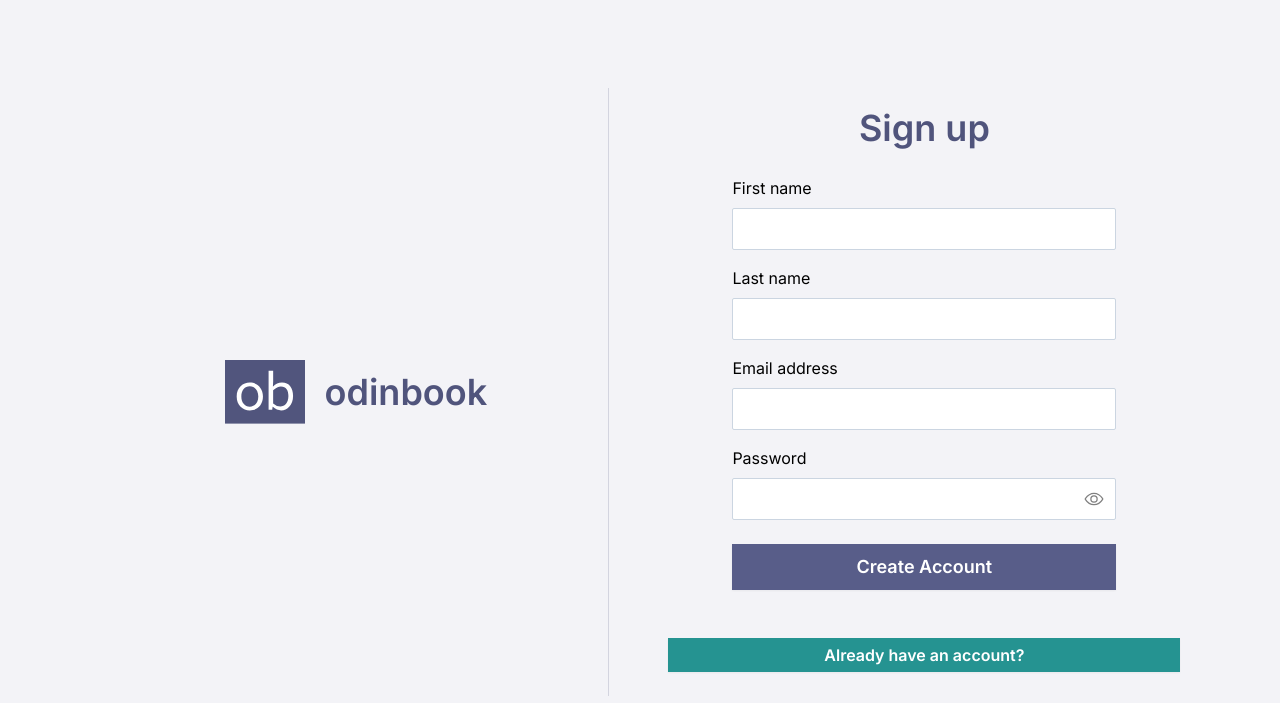
Test: Password confirmation input › shows confirmPassword input when user begins typing in password input
Type "test" into the password field labelled "Password".
click(924, 499); type("test")  # box [732,478,1116,520]
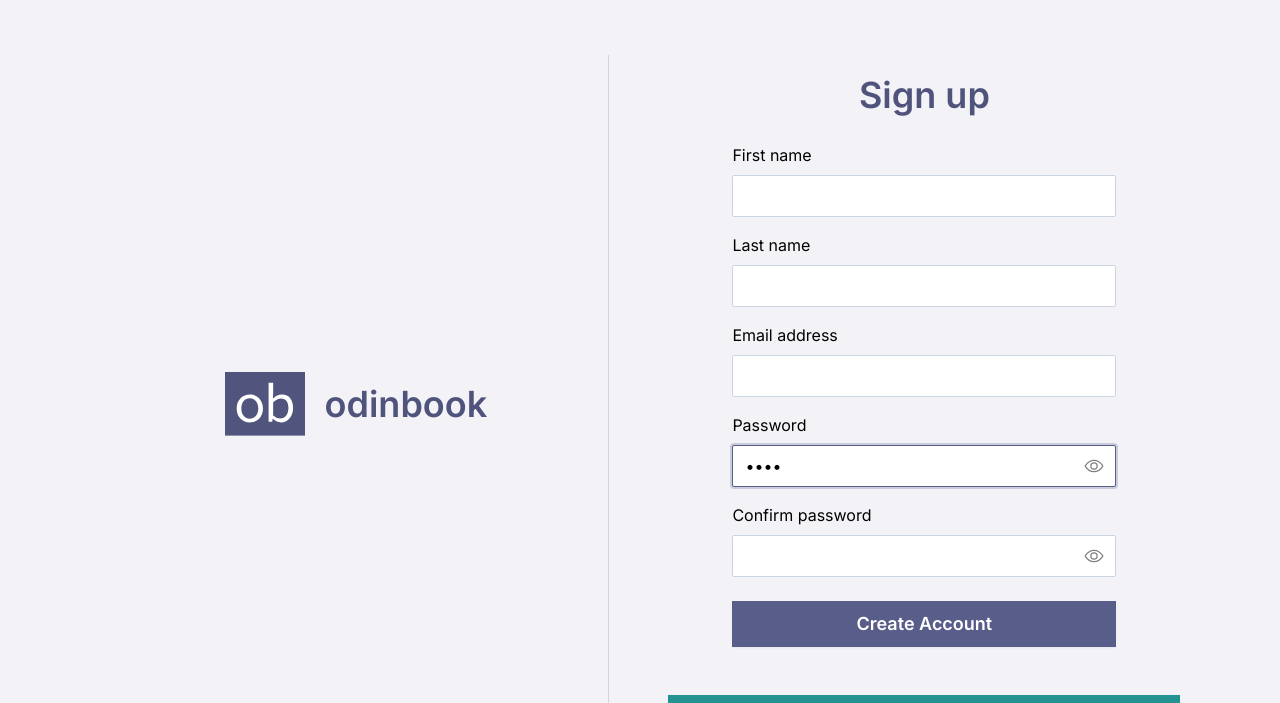
expect the password field labelled "Confirm password" is shown: met, box [732,535,1116,577]
